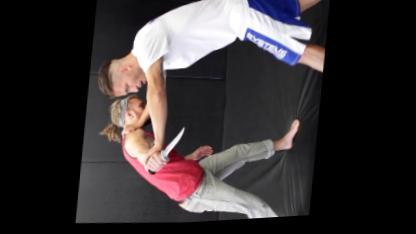knife: (145, 124, 190, 180)
